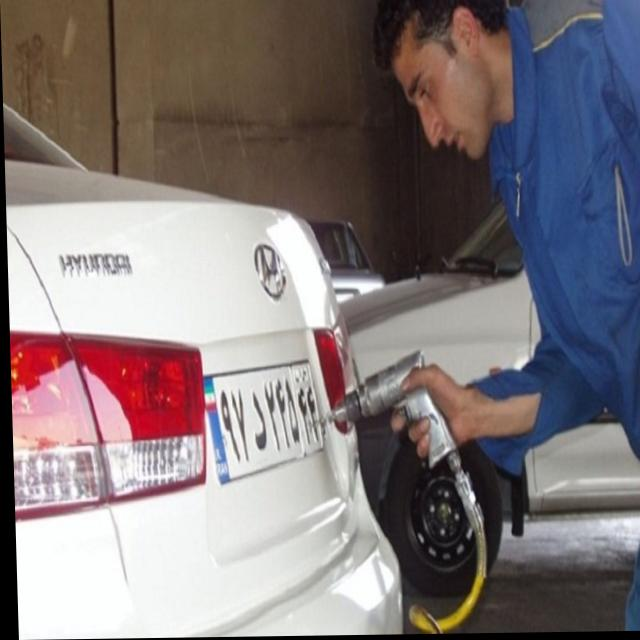licence: (201, 360, 325, 480)
